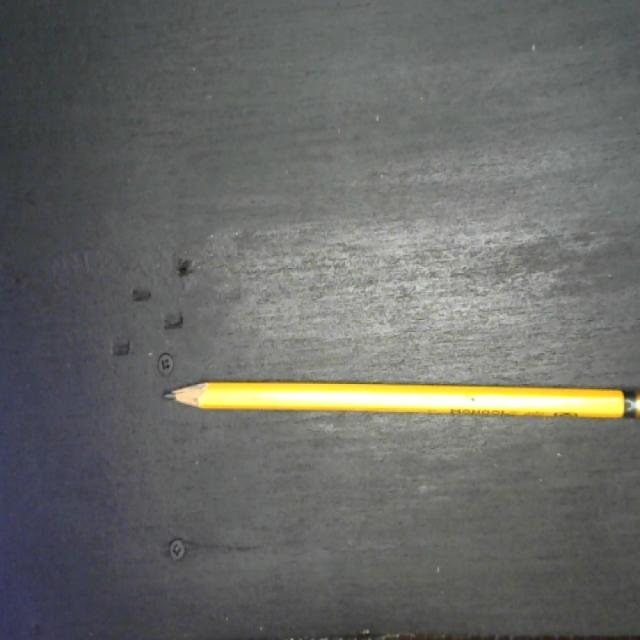biodegradable: (161, 374, 640, 425)
